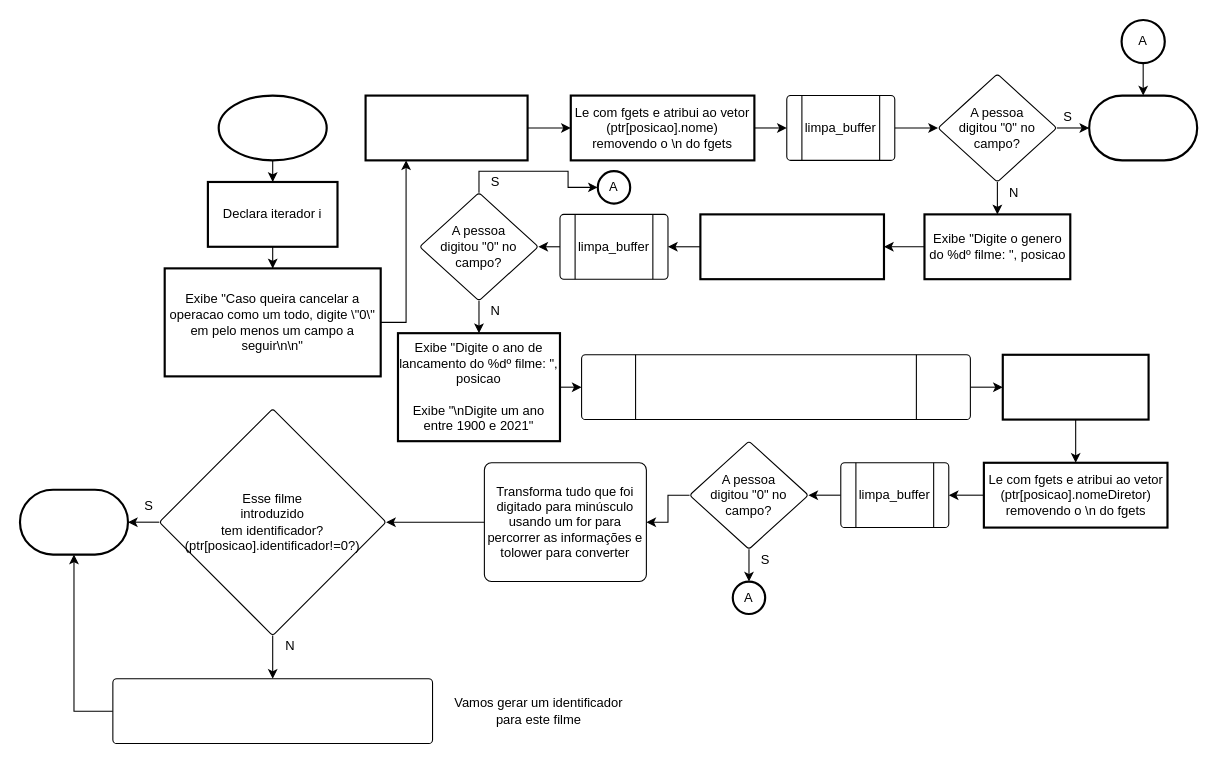
Image size: 1216x762. Some labels were removed from this diagram. The shapes that lost their labels are listed below. From the top down, each one's centre as x and y in pixels, then its label:
pixel 272 127: editaFilme (Filme *ptr, int posicao, FILE *ptr2)
pixel 446 127: Exibe "Digite o nome do %dº filme: ", posicao
pixel 1143 127: Retorna -1
pixel 792 246: Le com fgets e atribui ao vetor (ptr[posicao].genero) removendo o \n do fgets
pixel 775 387: le_numero (&(ptr[posicao].anoLancamento),1900,2021,'i')
pixel 1075 386: Exibe "Digite o nome do diretor do %dº filme: ", posicao
pixel 73 521: Retorna 0
pixel 272 711: ptr[posicao].identificador 🠔geraIdentificador(&(*ptr2))
